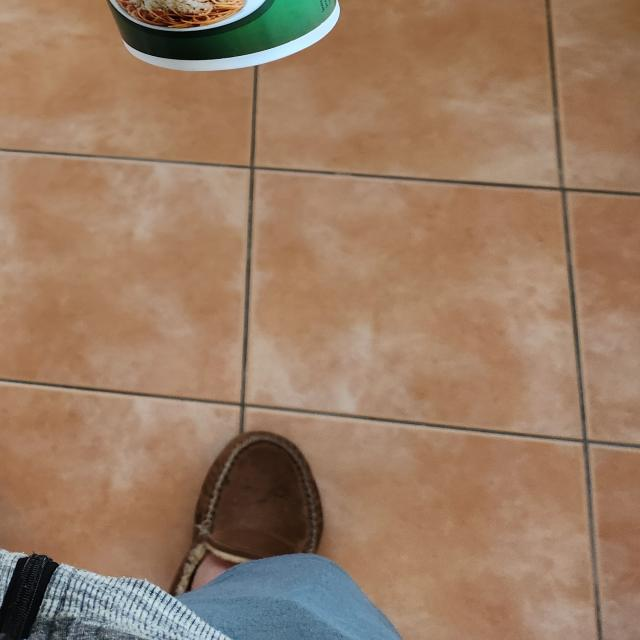cheese: (6, 0, 342, 69)
